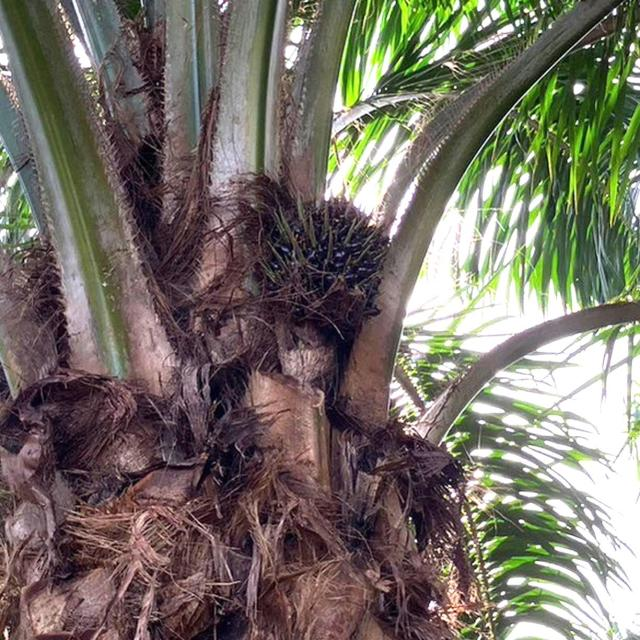unripe: (281, 198, 389, 334)
